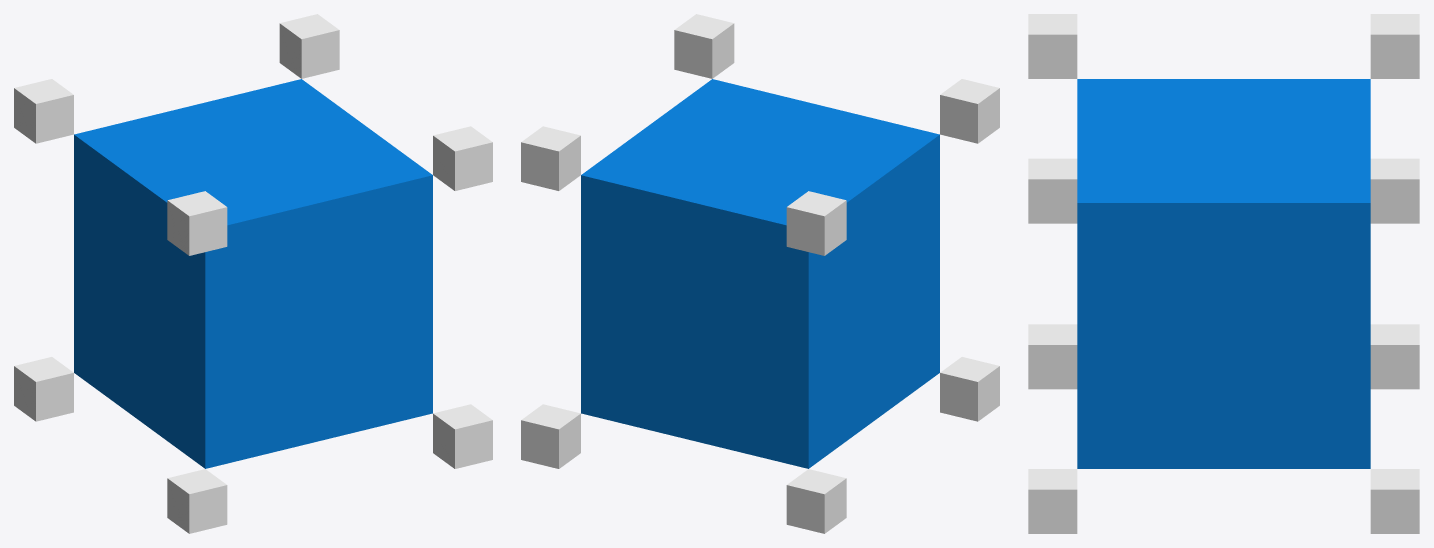
File: cube-resize.glb
3 views of the same model, side by side, from view 1: azimuth 30°, elevation 25°; view 2: azimuth 150°, elevation 25°; view 3: azimuth 270°, elevation 25° (orthographic). The views are drawn at different scales.
Visible parts, largest first — view 1: cube-resize; view 2: cube-resize; view 3: cube-resize.
Part boxes in pixels (bbox=[...]): cube-resize: bbox=[14, 14, 492, 533]; cube-resize: bbox=[521, 14, 999, 533]; cube-resize: bbox=[1028, 14, 1419, 533].
Bounding box in the file's own units: 1 × 1 × 1.
